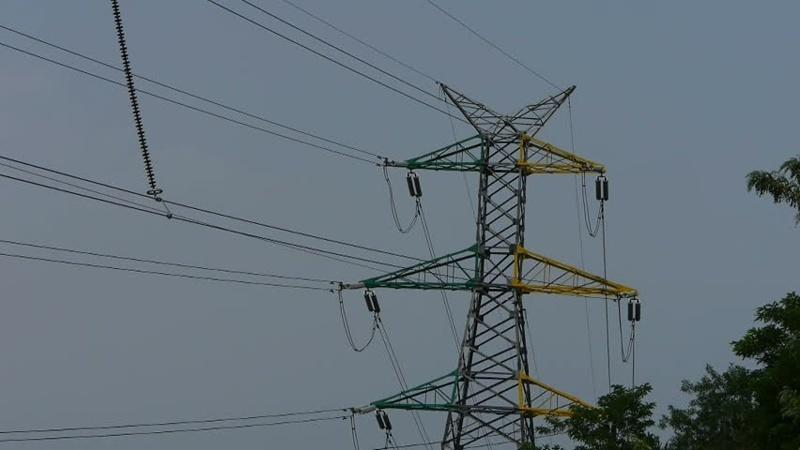power_tower: (334, 70, 642, 446)
